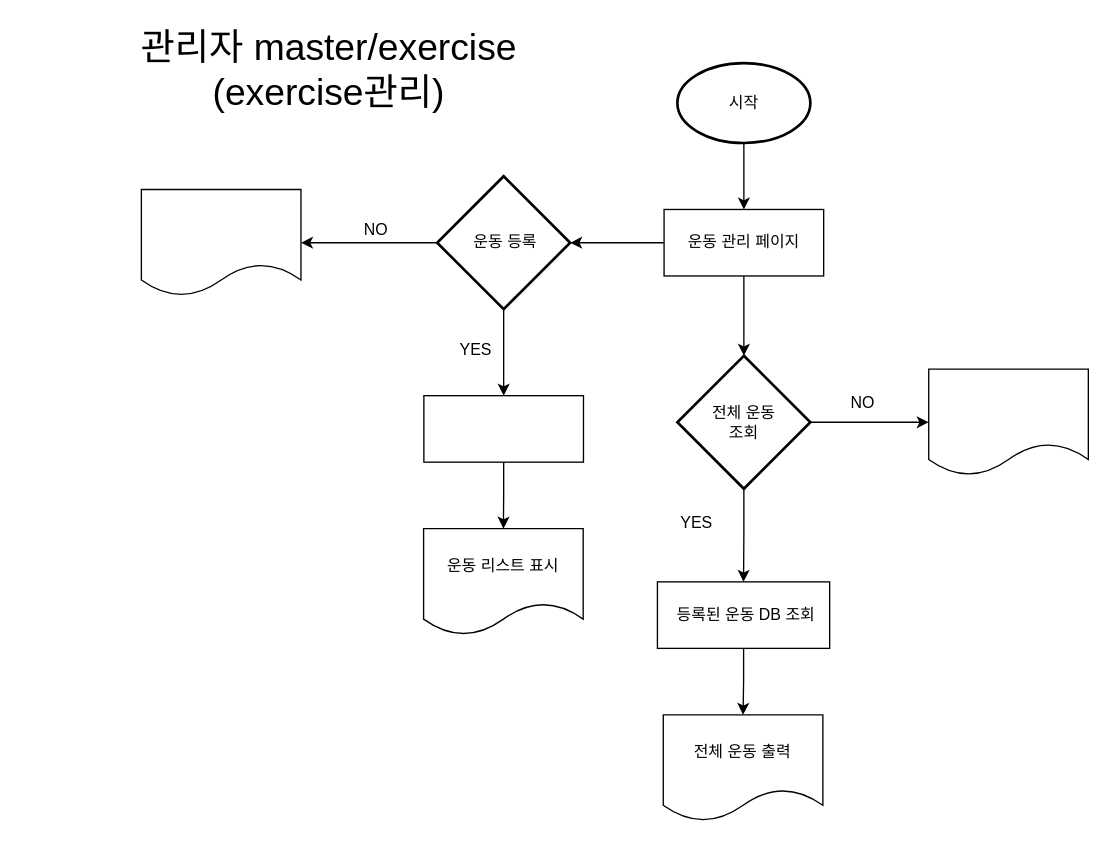
The diagram is 1112 pixels wide and 845 high, and some of its shapes have lost their labels. The shapes that lost their labels are listed below. From the top down, each one's centre as x and y in pixels, then its label:
At (220,242): "운동 입력 취소".
At (503,428): "운동 입력".
At (1007,421): "운동 조회 취소".
